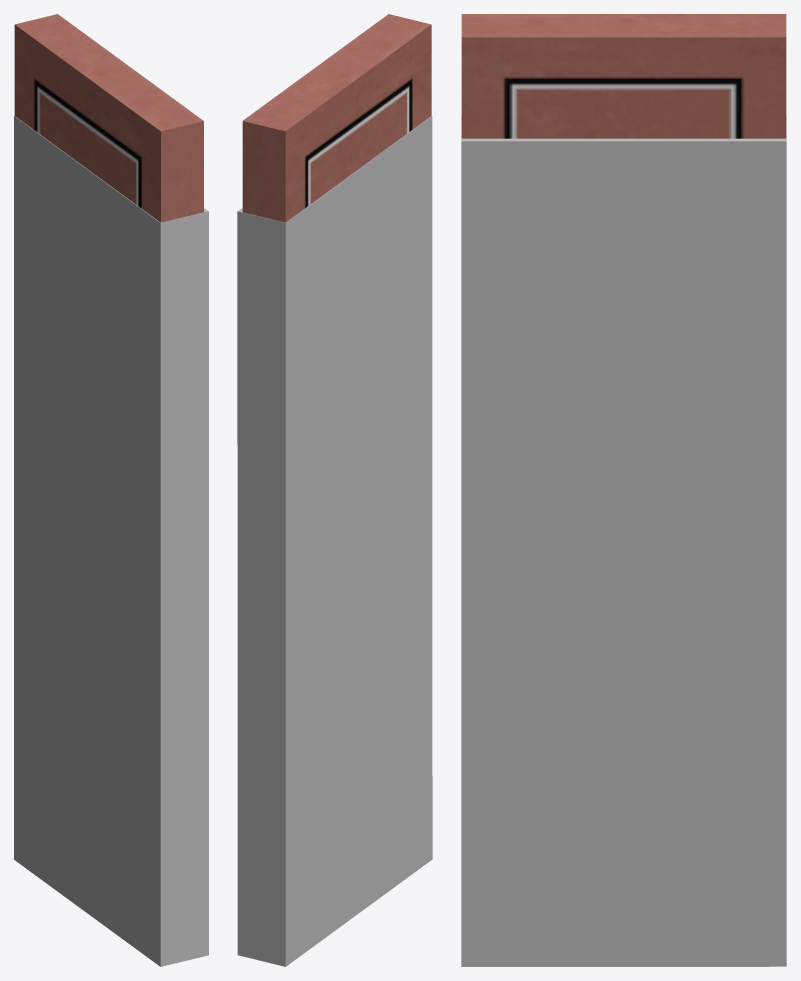
The model's file is SM_DG_Wall01A.fbx.
3 renders of one model, left to right at view 1: azimuth 30°, elevation 25°; view 2: azimuth 150°, elevation 25°; view 3: azimuth 270°, elevation 25°, orthographic. The views are drawn at different scales.
Parts seen in each view (by area): view 1: SM_DG_Wall01A_ConvexHulls, SM_DG_Wall01A; view 2: SM_DG_Wall01A_ConvexHulls, SM_DG_Wall01A; view 3: SM_DG_Wall01A_ConvexHulls, SM_DG_Wall01A.
Part boxes in pixels (x1,y1,x2,y2): SM_DG_Wall01A_ConvexHulls: [14, 115, 208, 966]; SM_DG_Wall01A: [14, 14, 203, 222]; SM_DG_Wall01A_ConvexHulls: [237, 116, 432, 966]; SM_DG_Wall01A: [242, 14, 431, 222]; SM_DG_Wall01A_ConvexHulls: [461, 115, 786, 966]; SM_DG_Wall01A: [461, 14, 786, 138].
Bounding box in the file's own units: 11.02 × 57.86 × 182.
2 materials, 1 textured.
